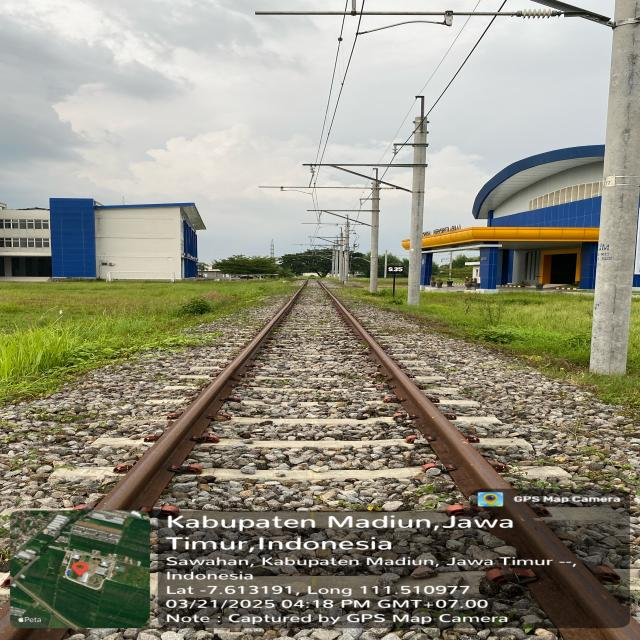rail-detection: (317, 279, 640, 640), (95, 280, 307, 510)
